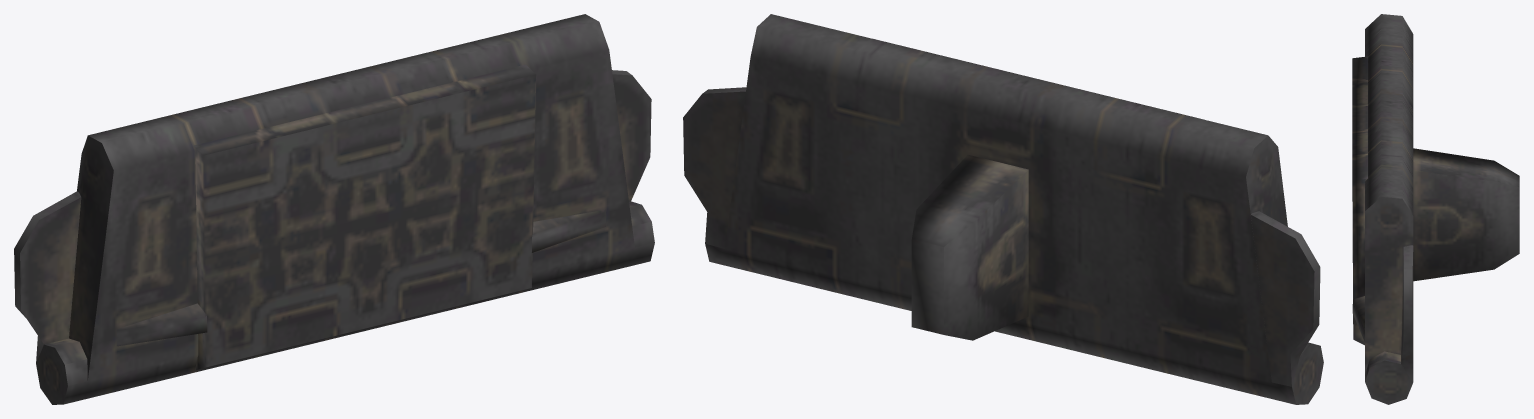
3 renders of one model, left to right at view 1: azimuth 30°, elevation 25°; view 2: azimuth 150°, elevation 25°; view 3: azimuth 270°, elevation 25°, orthographic. The views are drawn at different scales.
Parts seen in each view (by area): view 1: set_0_group_0; view 2: set_0_group_0; view 3: set_0_group_0.
Boxes of the visible parts, <box> form: set_0_group_0: <box>14,14,654,404</box>; set_0_group_0: <box>683,14,1323,404</box>; set_0_group_0: <box>1352,14,1519,404</box>.
Bounding box in the file's own units: 0.3598 × 0.1386 × 0.1095.
Materials: 1 (1 with a texture image).
